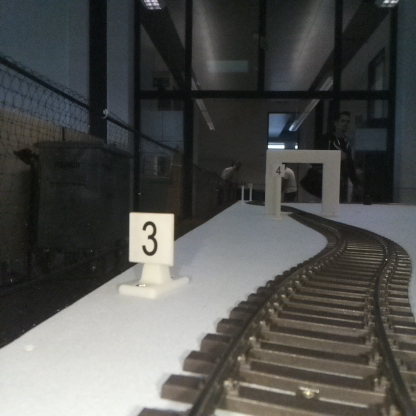white-info-4: (272, 163, 284, 219)
white-stop-3: (129, 213, 173, 293)
